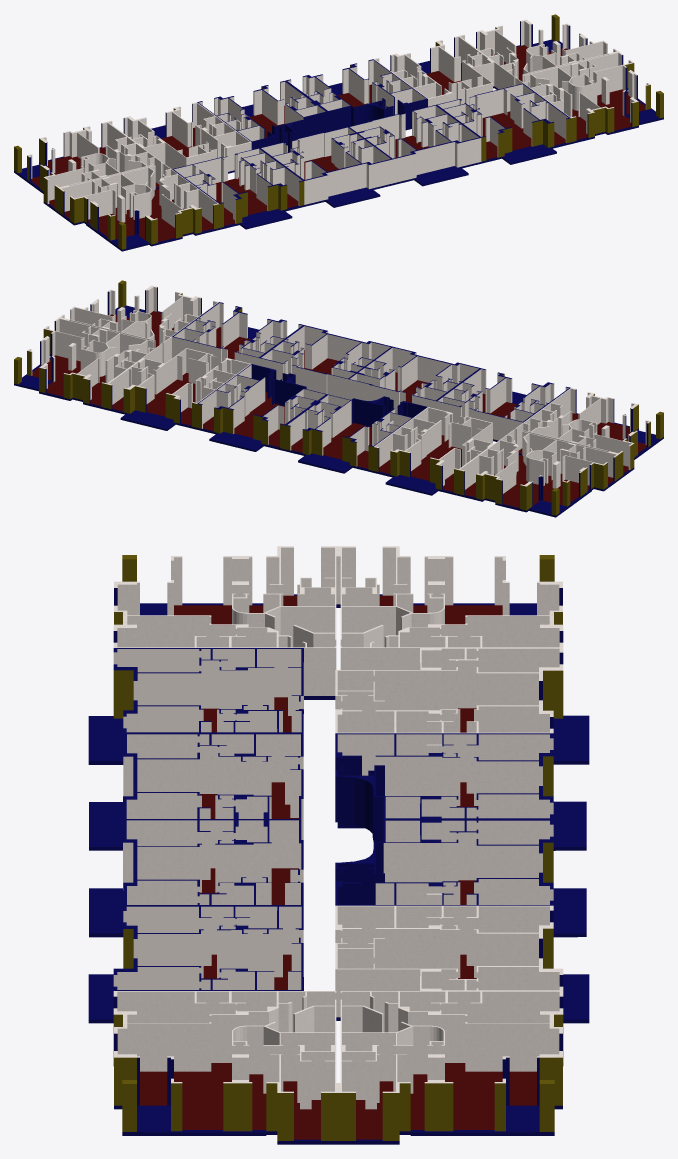
File: ArmeniaDriveFloor.fbx
3 views of the same model, one above another, from view 1: azimuth 30°, elevation 25°; view 2: azimuth 150°, elevation 25°; view 3: azimuth 270°, elevation 25° (orthographic). The views are drawn at different scales.
Visible parts, largest first — view 1: L1, G1, H1, J1, I1, K1, A1, D1, B1, C1, F1, E1; view 2: A1, F1, B1, E1, D1, C1, L1, I1, J1, G1, K1, H1; view 3: F1, G1, C1, E1, B1, D1, A1, K1, L1, J1, I1, H1.
Boxes of the visible parts, bbox=[...] form: L1: bbox=[59, 163, 219, 251]; G1: bbox=[515, 52, 663, 143]; H1: bbox=[436, 83, 570, 164]; J1: bbox=[259, 127, 392, 207]; I1: bbox=[348, 105, 481, 186]; K1: bbox=[172, 148, 304, 229]; A1: bbox=[14, 122, 162, 213]; D1: bbox=[285, 59, 427, 131]; B1: bbox=[107, 102, 251, 173]; C1: bbox=[197, 81, 327, 152]; F1: bbox=[459, 14, 618, 89]; E1: bbox=[373, 36, 494, 106]; A1: bbox=[458, 429, 618, 517]; F1: bbox=[14, 318, 162, 409]; B1: bbox=[373, 407, 493, 495]; E1: bbox=[107, 348, 250, 430]; D1: bbox=[197, 364, 326, 451]; C1: bbox=[285, 394, 427, 473]; L1: bbox=[515, 388, 663, 479]; I1: bbox=[259, 325, 392, 399]; J1: bbox=[348, 346, 480, 413]; G1: bbox=[59, 280, 218, 363]; K1: bbox=[436, 368, 570, 441]; H1: bbox=[172, 302, 303, 370]; F1: bbox=[338, 991, 563, 1144]; G1: bbox=[113, 991, 338, 1144]; C1: bbox=[335, 733, 586, 850]; E1: bbox=[335, 905, 589, 1023]; B1: bbox=[335, 648, 589, 764]; D1: bbox=[335, 819, 586, 937]; A1: bbox=[338, 546, 563, 669]; K1: bbox=[88, 648, 303, 764]; L1: bbox=[113, 546, 338, 699]; J1: bbox=[89, 733, 303, 850]; I1: bbox=[89, 819, 303, 937]; H1: bbox=[88, 906, 303, 1023].
Size of the model in its own units: 6340 by 2452 by 280.
